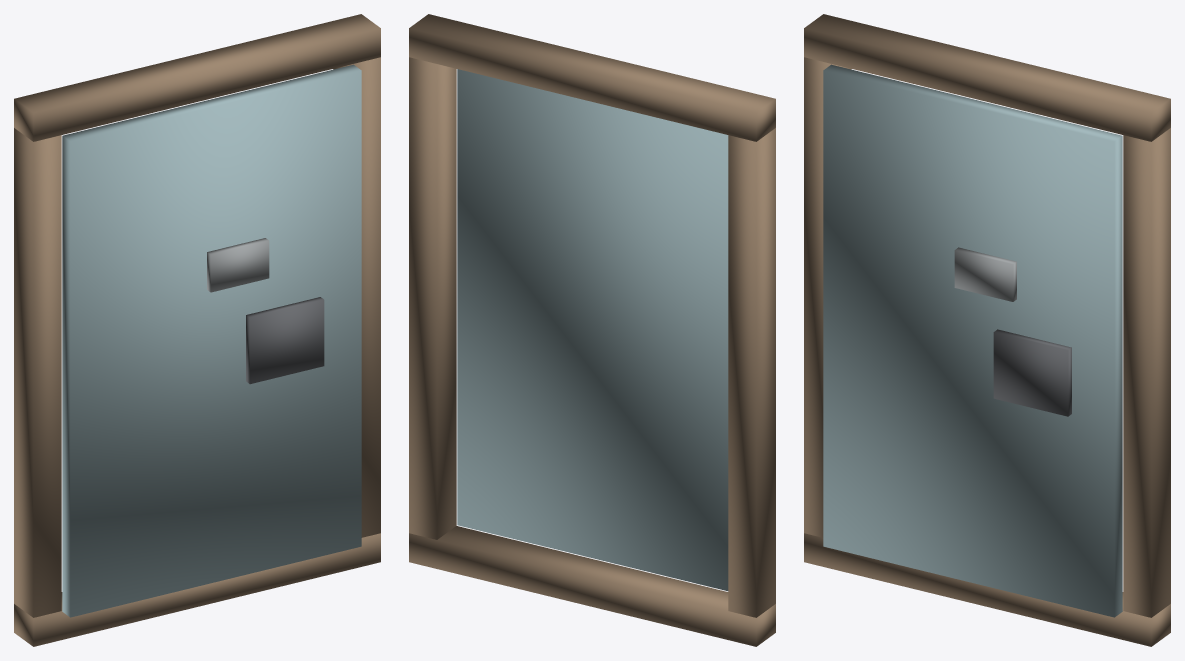
File: mirror__weathered.glb
3 renders of one model, left to right at view 1: azimuth 30°, elevation 25°; view 2: azimuth 150°, elevation 25°; view 3: azimuth 330°, elevation 25°, orthographic.
Parts seen in each view (by area): view 1: world; view 2: world; view 3: world.
Boxes of the visible parts, left/top/right/bottom form: world: left=14, top=14, right=380, bottom=646; world: left=409, top=14, right=775, bottom=646; world: left=804, top=14, right=1170, bottom=646.
Size of the model in its own units: 0.62 by 0.9108 by 0.1015.
